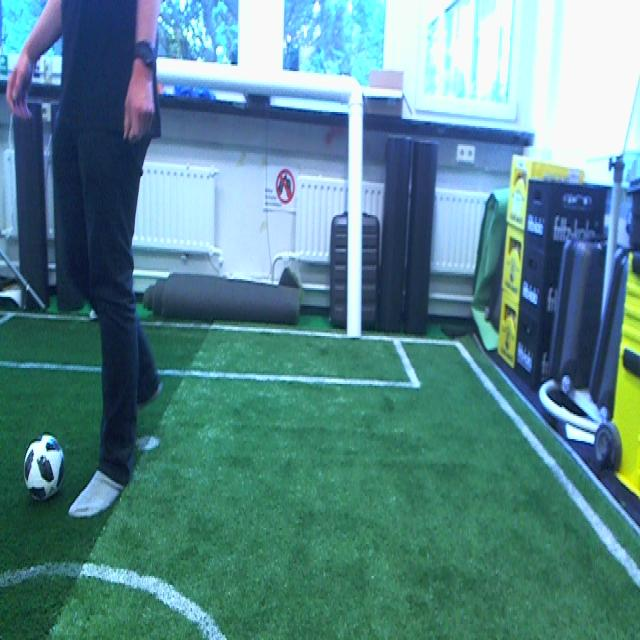ball: (23, 434, 66, 501)
goalpost: (347, 78, 361, 338)
